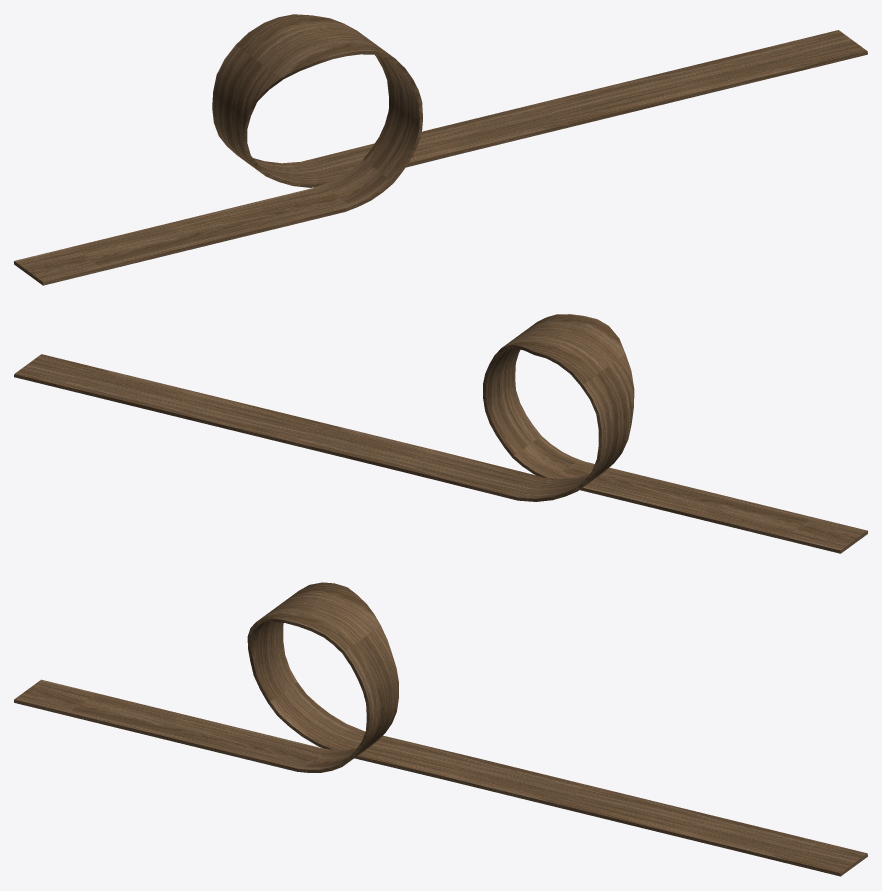
The model's file is loopdaloop.fbx.
The picture shows the model from 3 angles, top to bottom: view 1: azimuth 30°, elevation 25°; view 2: azimuth 150°, elevation 25°; view 3: azimuth 330°, elevation 25°; orthographic projection. The views are drawn at different scales.
Visible parts, largest first — view 1: Cube; view 2: Cube; view 3: Cube.
Boxes of the visible parts, x1,y1,x2,y2 form: Cube: [14, 14, 867, 285]; Cube: [14, 314, 867, 553]; Cube: [14, 582, 867, 876].
Bounding box in the file's own units: 3388 × 602 × 399.
